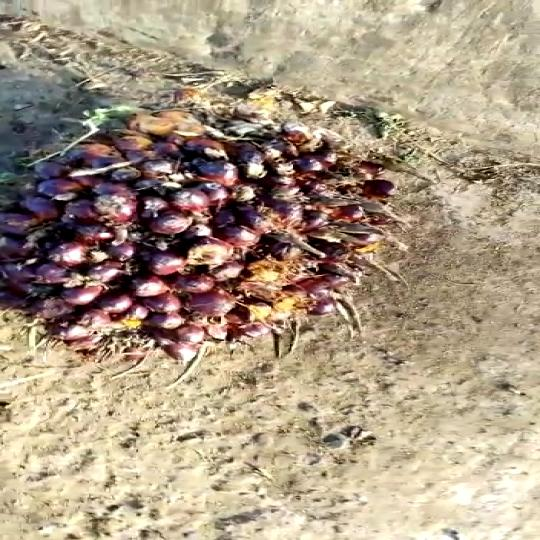kurang masak: (0, 79, 396, 362)
